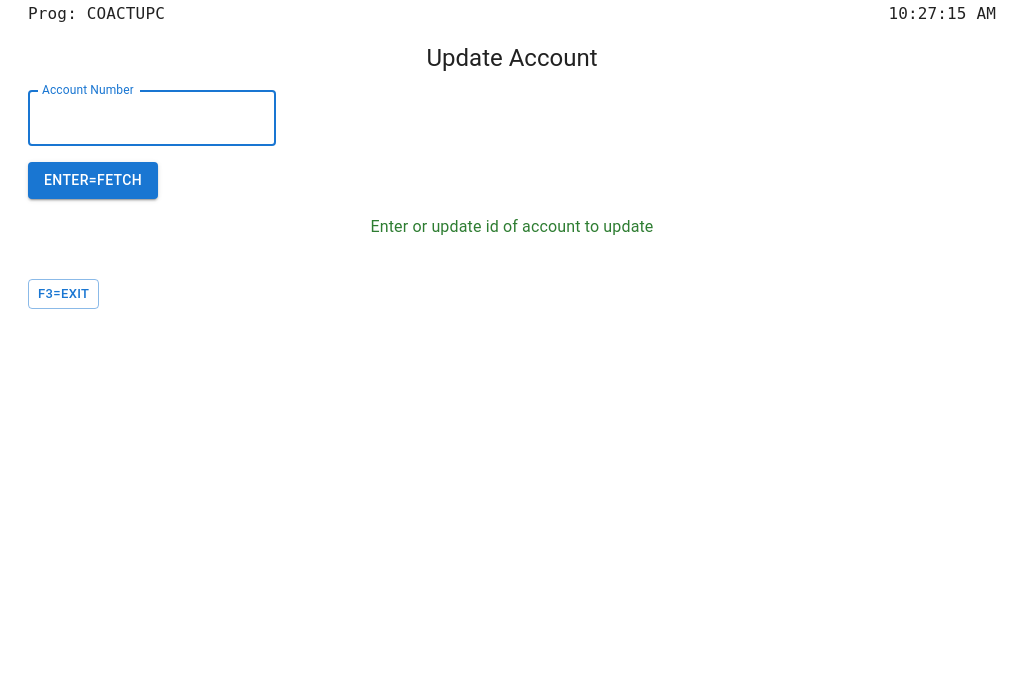
it: CAUP account update › 9700: conflict preserves edits but prevents retry until F12 reloads a fresh version
Type "00000000042" into the field labelled "Account Number" at (152, 118), box [28,90,276,146]
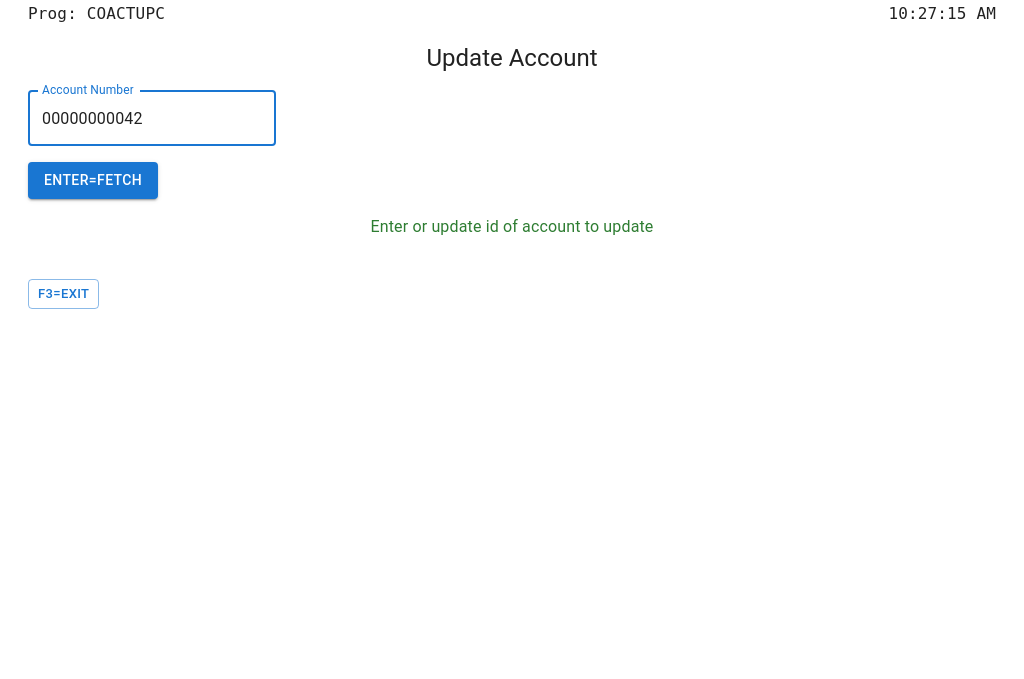
Press Enter in the field labelled "Account Number", box [28,90,276,146]
(page scrolled)
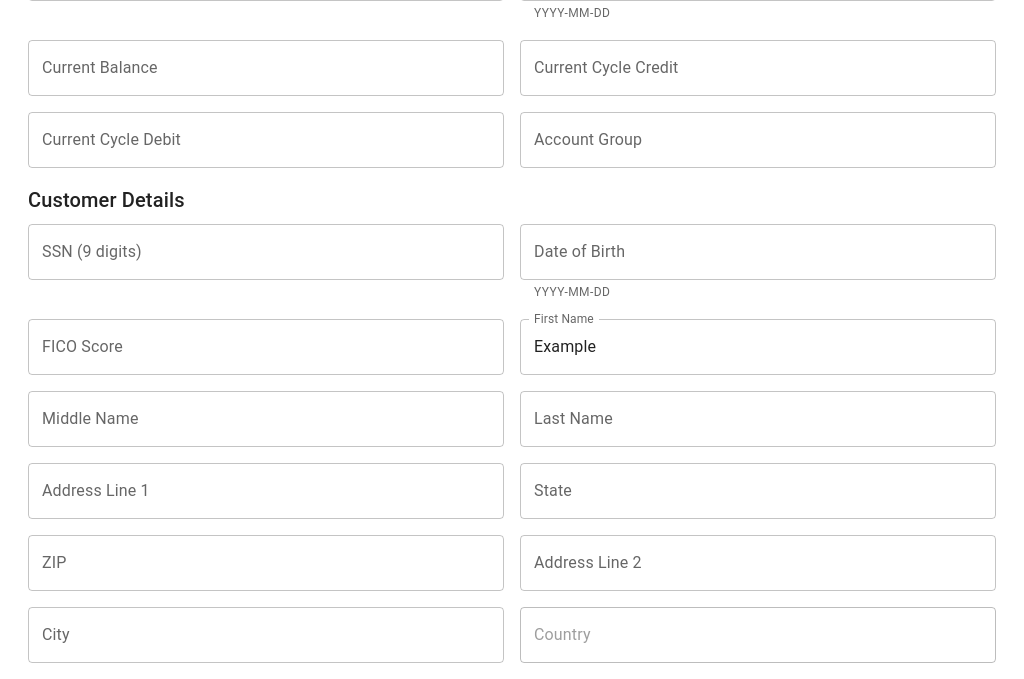
Result: the field labelled "First Name" is shown
Replace the text in the field labelled "First Name" with "Pending" at (758, 347), box [520,319,996,375]
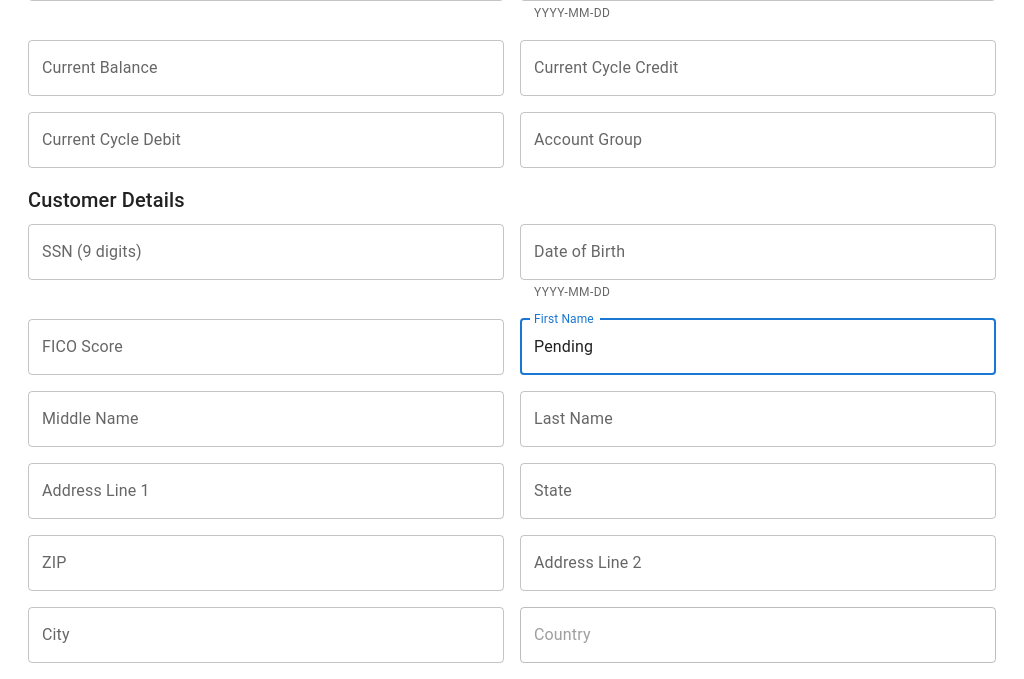
Press Enter in the field labelled "First Name", box [520,319,996,375]
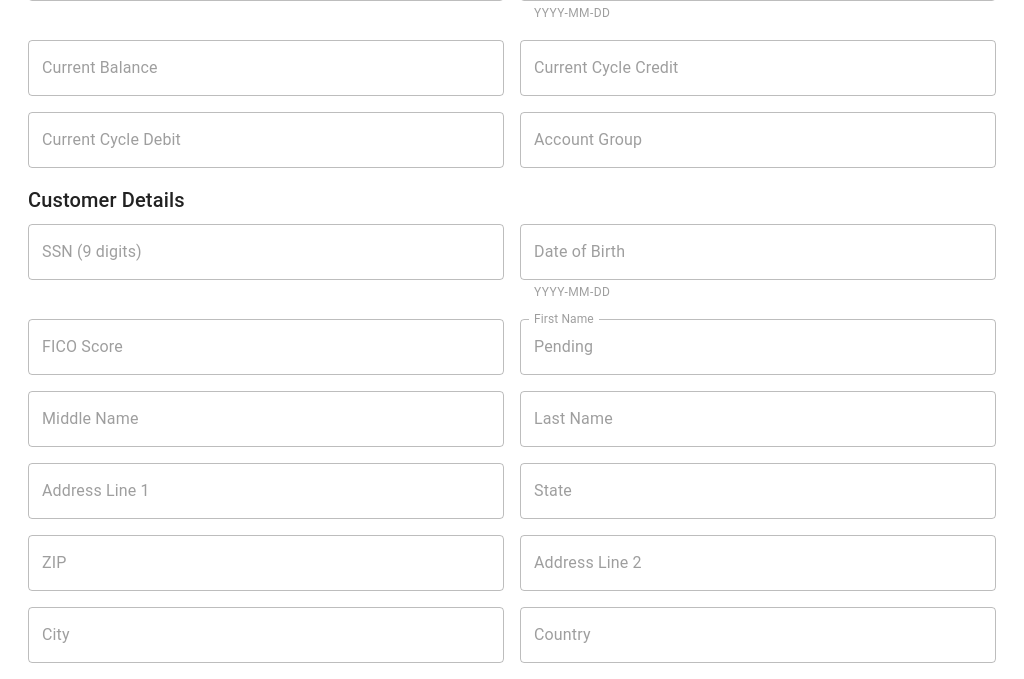
Result: the field labelled "First Name" is disabled at [520,319,996,375]
Press F5
Press Enter
Press F12
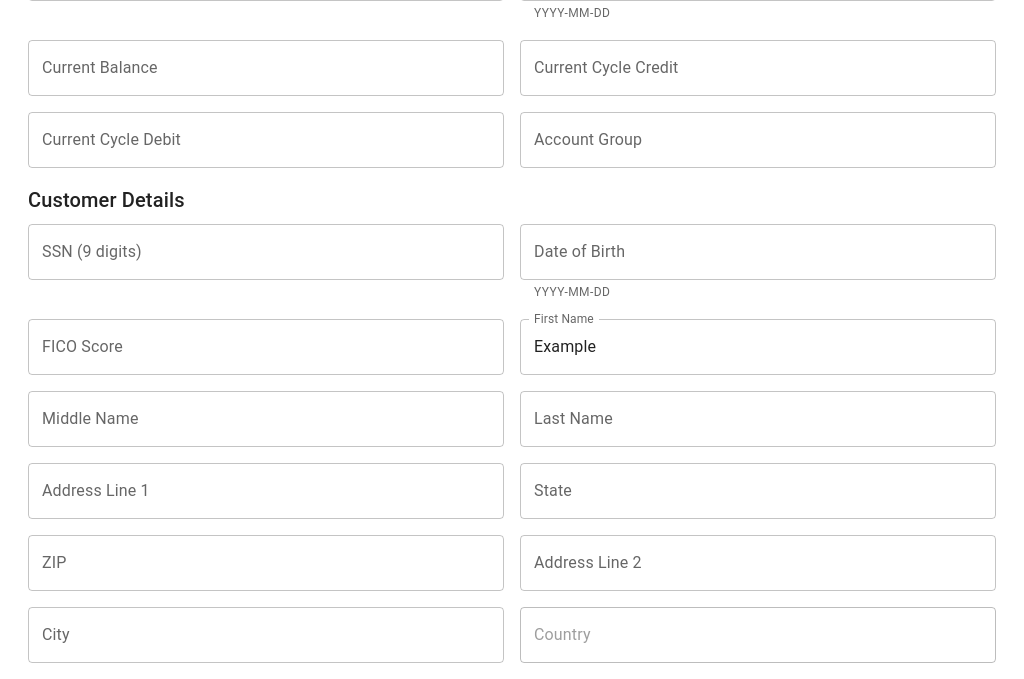
Result: the field labelled "First Name" is enabled at [520,319,996,375]
